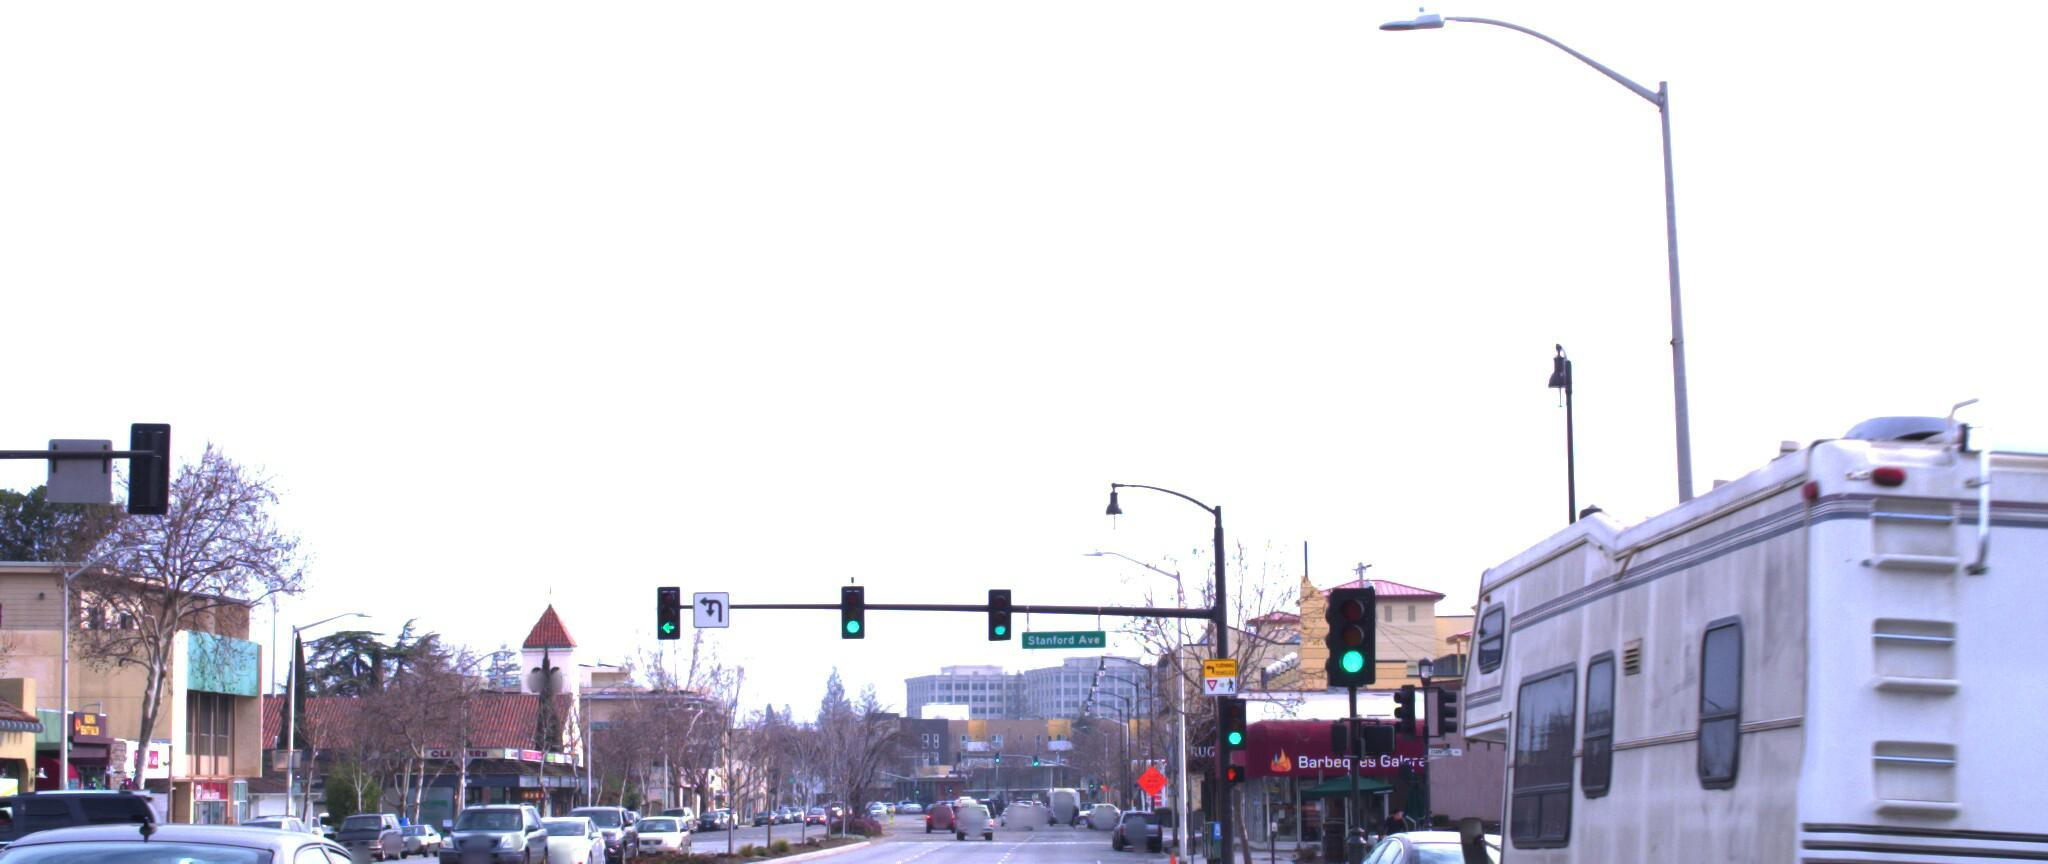car: (1964, 0, 2048, 864), (0, 796, 492, 864), (1296, 803, 1605, 864), (1388, 820, 1812, 864), (0, 769, 183, 864), (431, 777, 559, 863), (515, 791, 613, 854)
other_vehicle: (1421, 298, 2048, 864)
